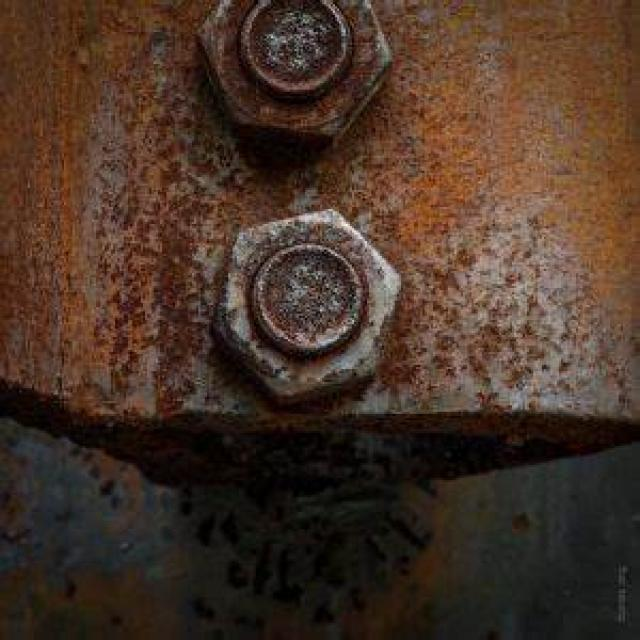bolt nut: (209, 207, 403, 407), (194, 2, 395, 154)
